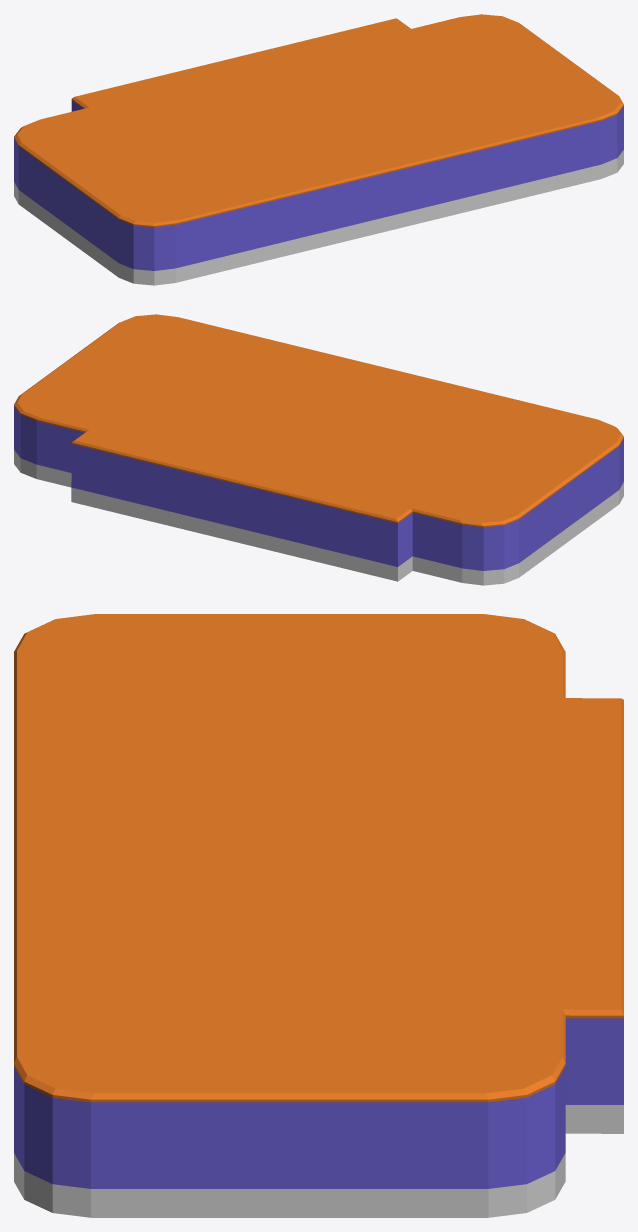
File: High Jump Mat.fbx
3 views of the same model, one above another, from view 1: azimuth 30°, elevation 25°; view 2: azimuth 150°, elevation 25°; view 3: azimuth 270°, elevation 25° (orthographic). The views are drawn at different scales.
Visible parts, largest first — view 1: High Jump Mat; view 2: High Jump Mat; view 3: High Jump Mat.
Boxes of the visible parts, box(x1,y1,x2,y2) form: High Jump Mat: box(14, 14, 623, 285); High Jump Mat: box(14, 314, 623, 585); High Jump Mat: box(14, 614, 623, 1217).
Size of the model in its own units: 2700 by 318 by 1438.
